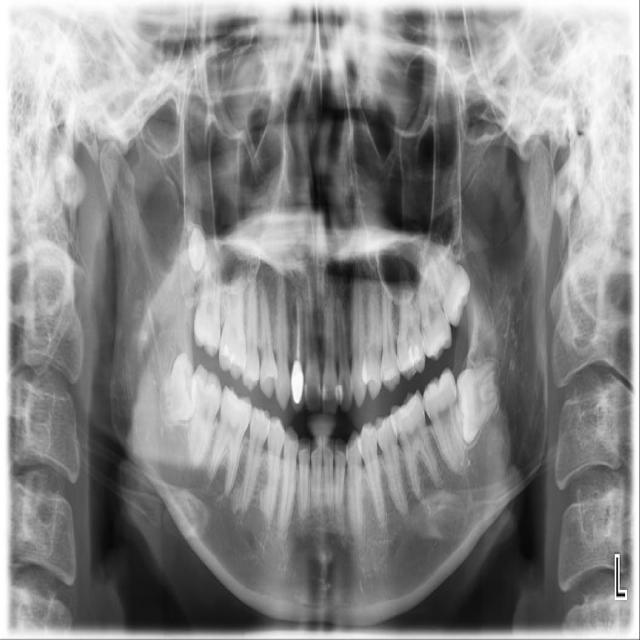Crown: (290, 361, 305, 413)
Filling: (321, 358, 338, 418), (304, 363, 322, 412), (337, 370, 353, 415), (221, 345, 245, 374), (400, 349, 423, 373)
Root Canal Treatment: (297, 310, 299, 359)
impacted tooth: (424, 243, 471, 327), (457, 361, 498, 445), (159, 353, 195, 423)
